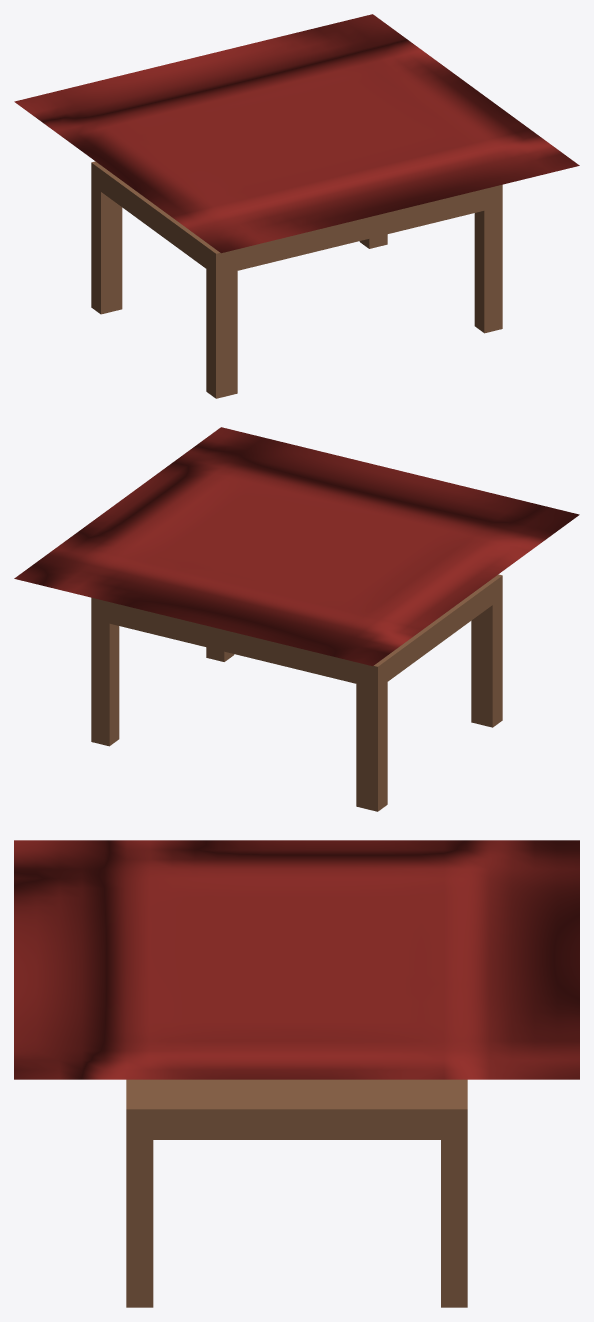
File: TableFBX.fbx
The picture shows the model from 3 angles, top to bottom: view 1: azimuth 30°, elevation 25°; view 2: azimuth 150°, elevation 25°; view 3: azimuth 270°, elevation 25°; orthographic projection. The views are drawn at different scales.
Visible parts, largest first — view 1: pPlane1, pCube1; view 2: pPlane1, pCube1; view 3: pPlane1, pCube1.
Boxes of the visible parts, x1,y1,x2,y2 form: pPlane1: [14, 14, 579, 253]; pCube1: [91, 161, 502, 398]; pPlane1: [14, 427, 579, 666]; pCube1: [91, 574, 502, 811]; pPlane1: [14, 840, 579, 1079]; pCube1: [126, 1079, 467, 1307].
Size of the model in its own units: 12.56 by 6.17 by 12.56.
